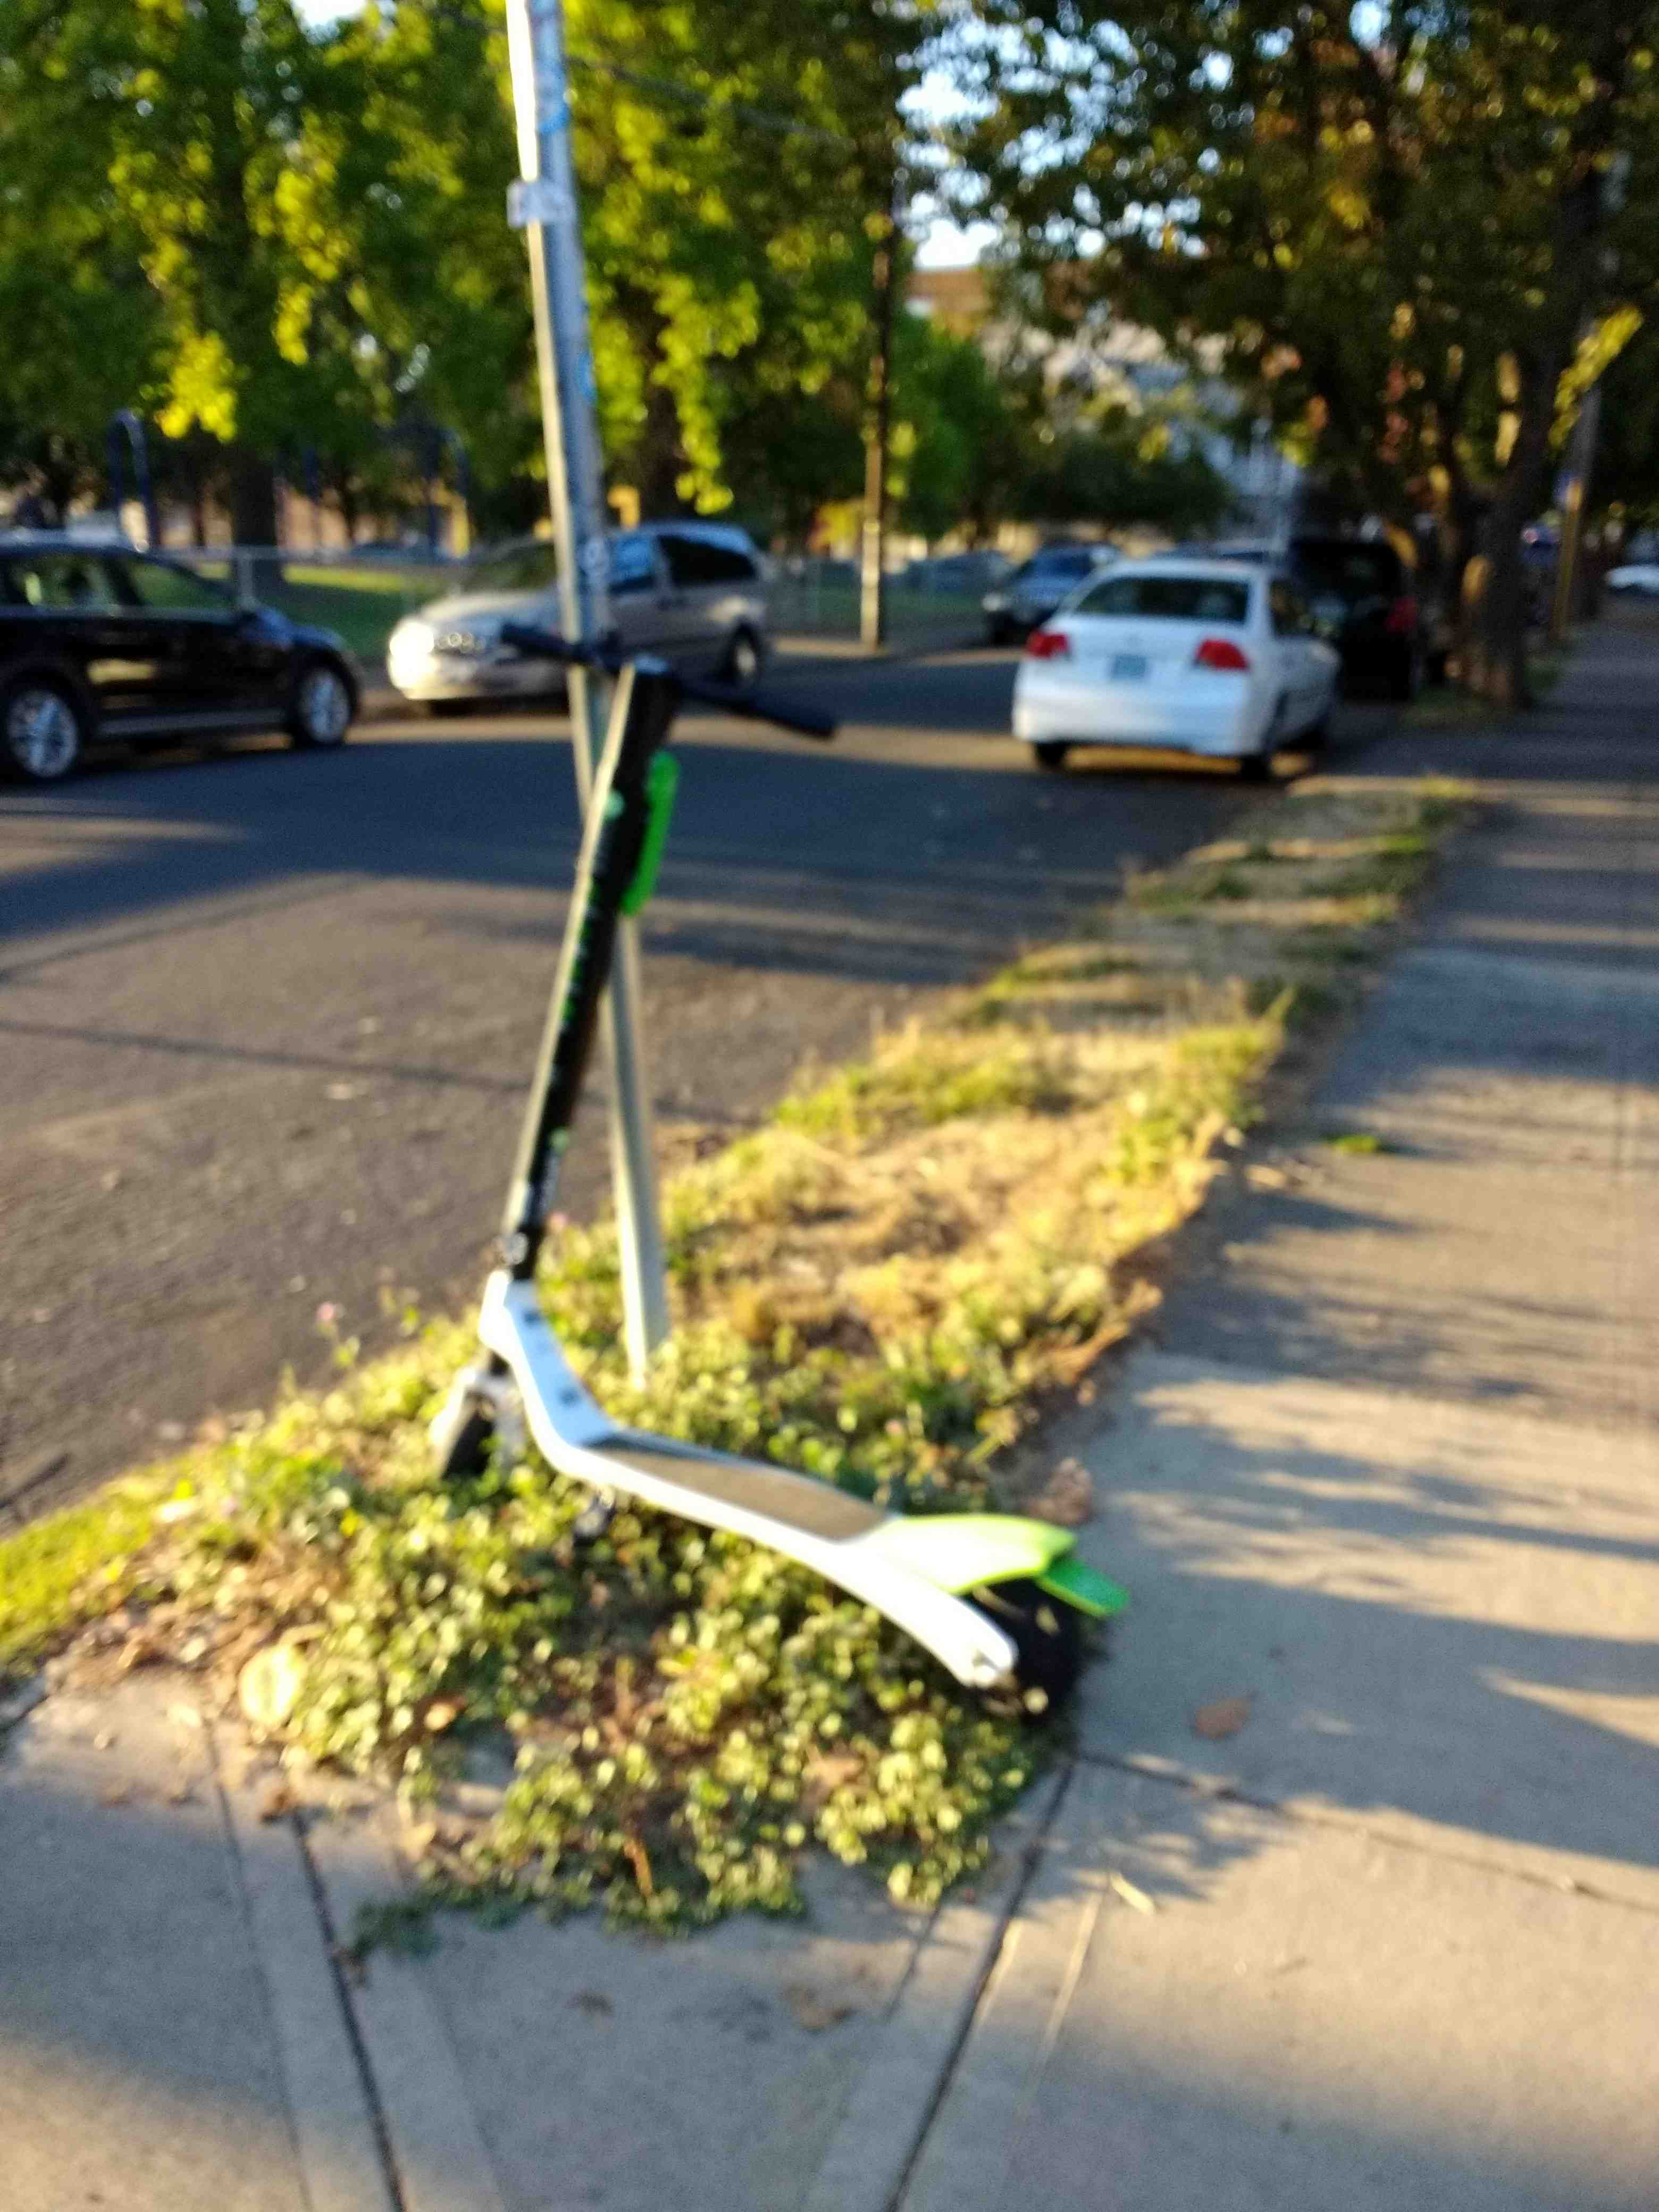scooter: (376, 570, 1103, 1733)
